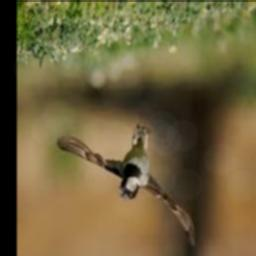Sparrow: (56, 125, 196, 246)
